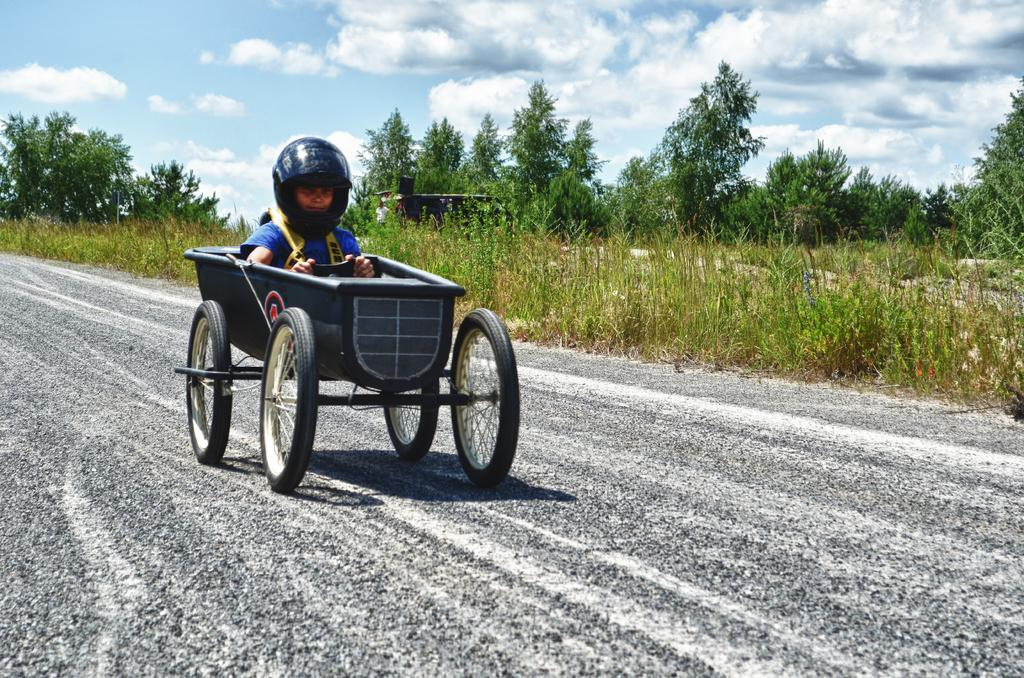helmet: (272, 136, 353, 240)
